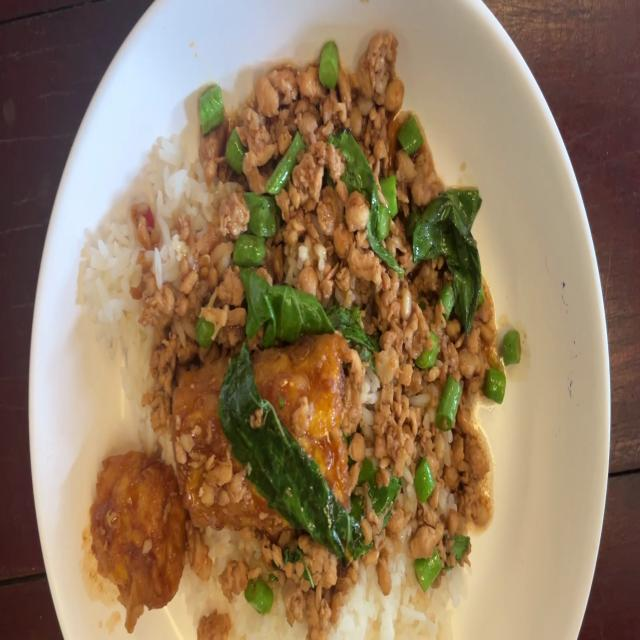01rice: (92, 218, 145, 424), (341, 565, 449, 640), (162, 112, 202, 283)
fried_tofo: (178, 350, 360, 485), (97, 470, 186, 590)
minced_pork: (163, 46, 483, 338), (369, 335, 499, 564), (228, 537, 338, 613)
stir_fried_basil: (90, 35, 510, 640)
